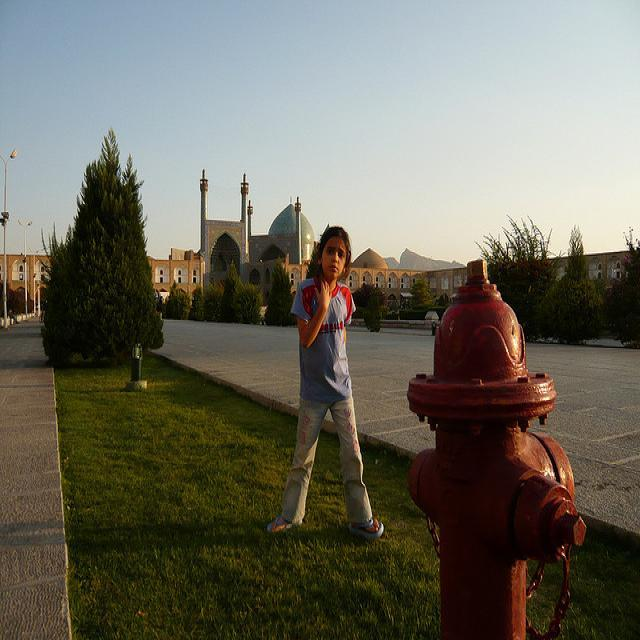fire_hydrant: (408, 258, 587, 640)
